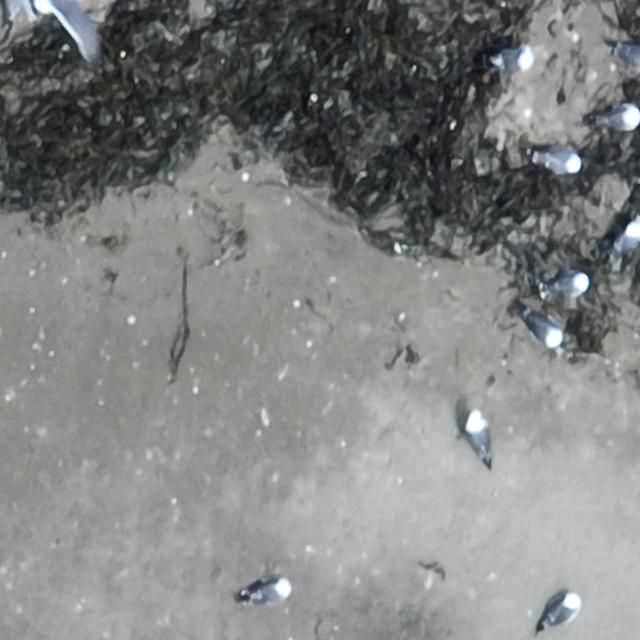umineko: (610, 223, 639, 268), (528, 316, 562, 348), (552, 270, 591, 295), (538, 152, 581, 174), (468, 417, 489, 461), (549, 596, 577, 624), (601, 108, 637, 128), (493, 48, 528, 68), (253, 582, 287, 602)
